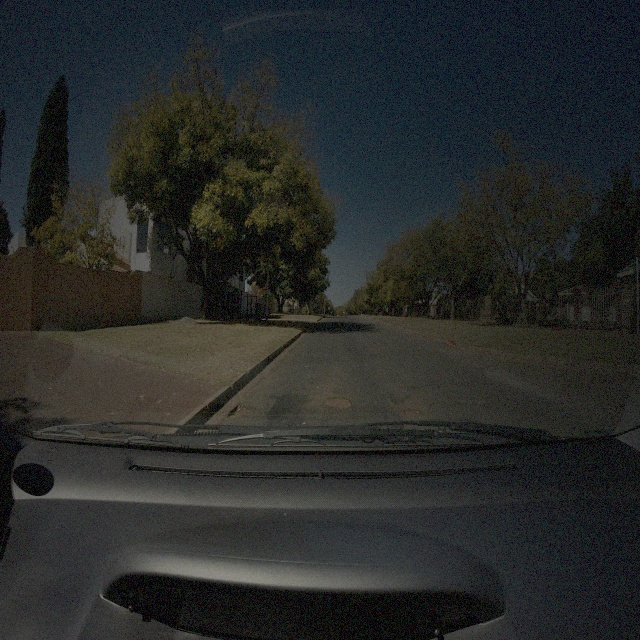pothole: (323, 395, 352, 410), (229, 402, 255, 418), (402, 407, 421, 417)
